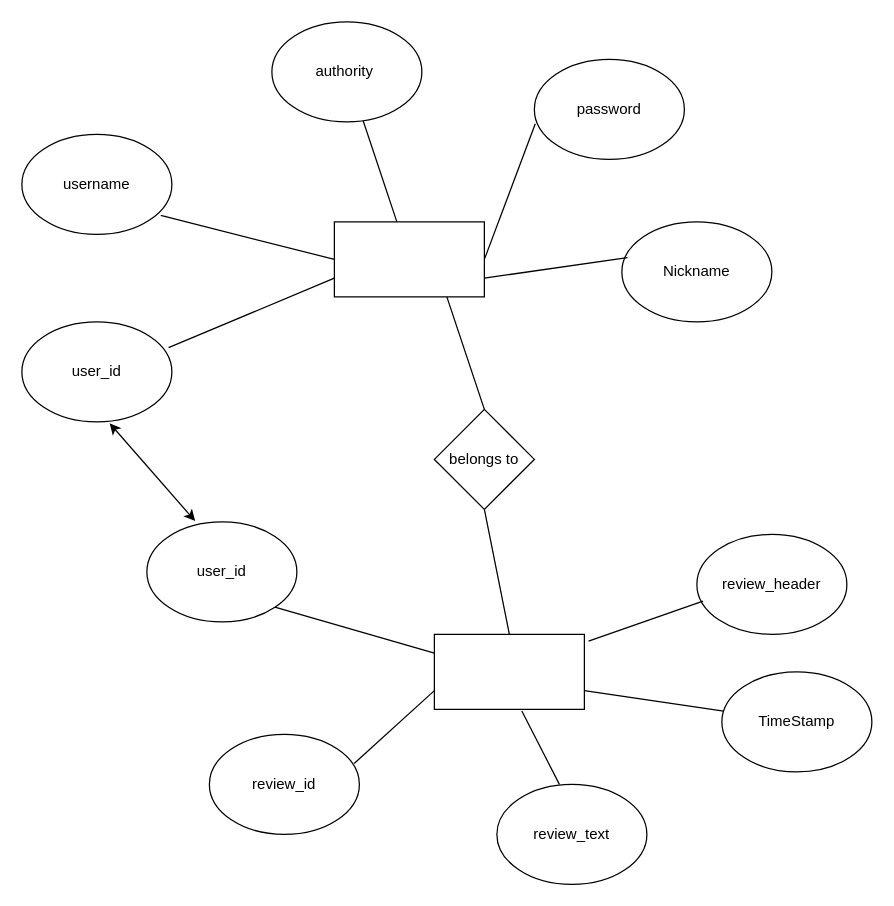
The diagram is 894 pixels wide and 906 high, and some of its shapes have lost their labels. The shapes that lost their labels are listed below. From the top down, each one's centre as x and y in pixels, then its label:
At [408,259]: "users".
At [508,671]: "review".
